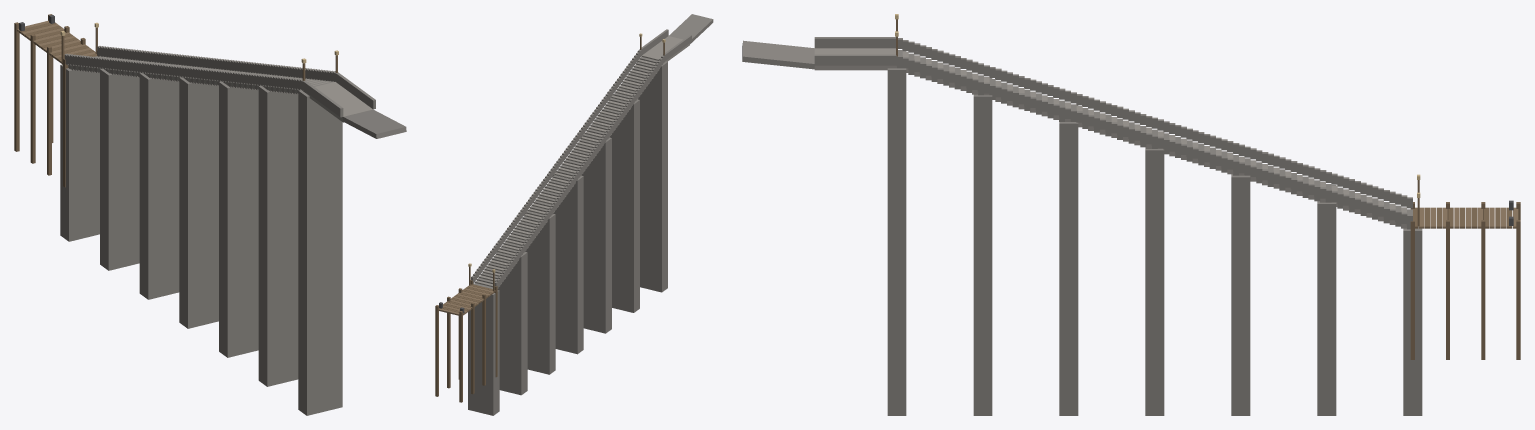
The model's file is ash_landing_vent.glb.
3 views of the same model, side by side, from view 1: azimuth 30°, elevation 25°; view 2: azimuth 150°, elevation 25°; view 3: azimuth 270°, elevation 25° (orthographic). The views are drawn at different scales.
Visible parts, largest first — view 1: geometry_0; view 2: geometry_0; view 3: geometry_0.
Part boxes in pixels (x1,y1,x2,y2): geometry_0: (14,14,406,415); geometry_0: (435,14,713,415); geometry_0: (742,14,1520,415).
Size of the model in its own units: 3.95 by 36 by 66.27.
